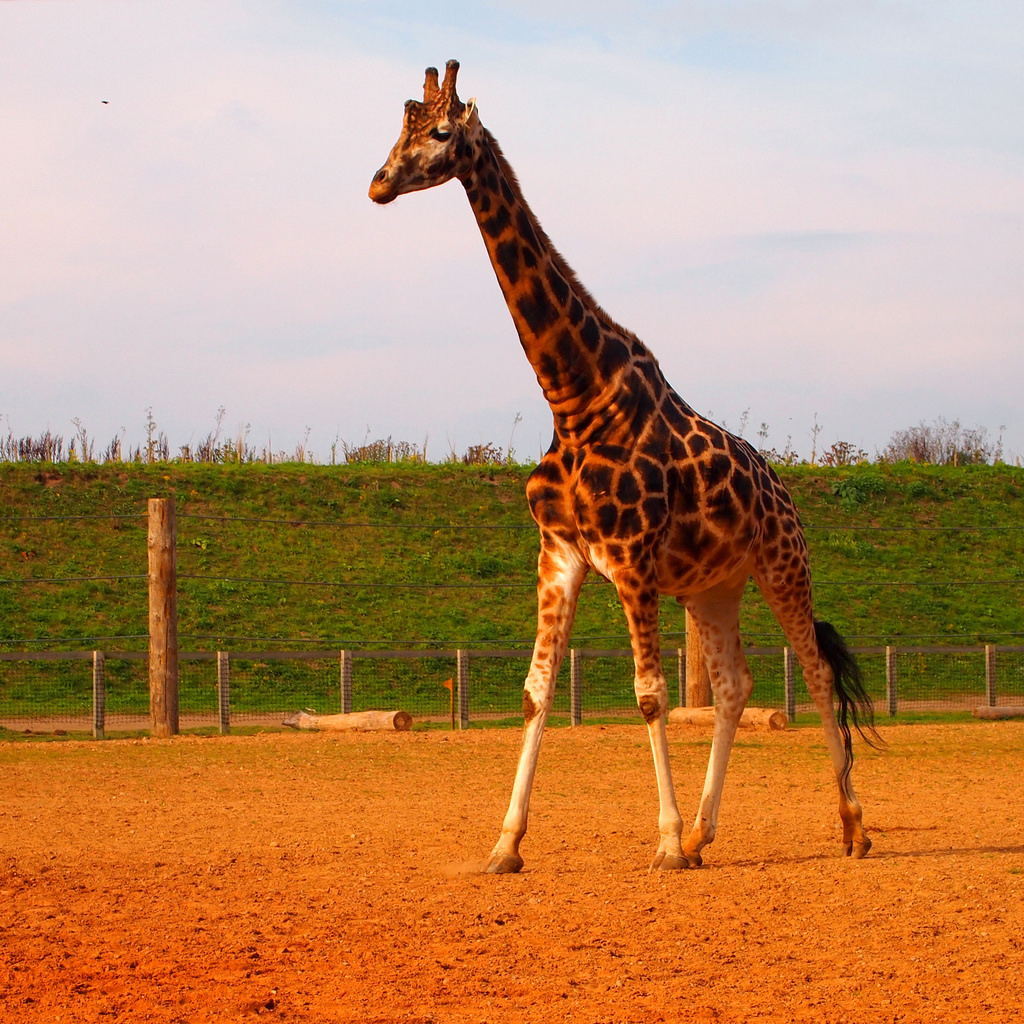giraffe: (346, 60, 928, 906)
